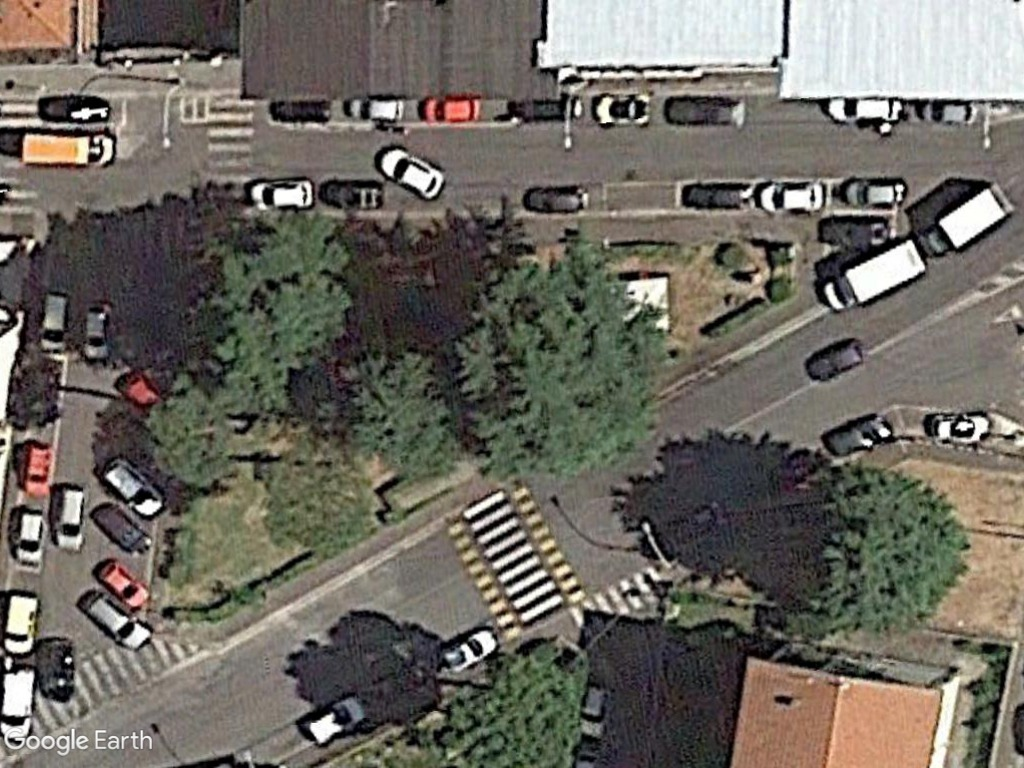car: (78, 586, 154, 657), (373, 145, 449, 203), (92, 555, 153, 612), (437, 628, 500, 677), (754, 178, 837, 214), (50, 483, 88, 555), (923, 406, 993, 445), (245, 176, 318, 212), (9, 507, 47, 573), (590, 92, 654, 129), (523, 183, 593, 216), (37, 290, 72, 354), (81, 300, 114, 363), (21, 438, 54, 499), (344, 95, 411, 125), (420, 95, 486, 125)
truck: (821, 230, 928, 317), (917, 180, 1015, 261), (17, 128, 119, 172)
van: (100, 454, 166, 521), (294, 694, 369, 747), (0, 587, 40, 660), (0, 666, 34, 743)
